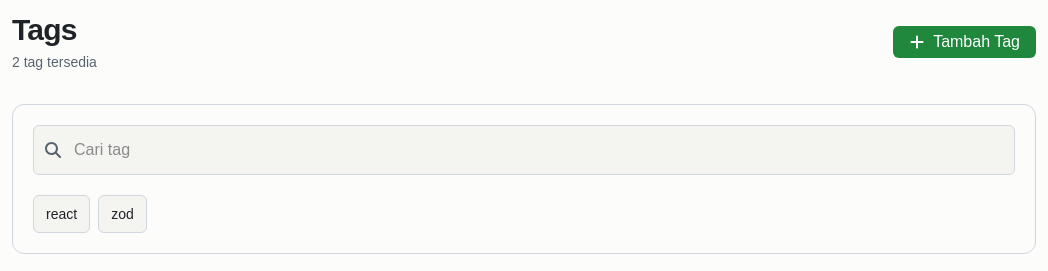
it: TagsManager › sorts tags and filters the compact list
The width and height of the screenshot is (1048, 271).
Expected: the list named "Daftar tag" reads "react zod", [33, 195, 147, 233]
Type "react" into the field labelled "Cari tag". click: (524, 150)
box: [33, 125, 1015, 175]
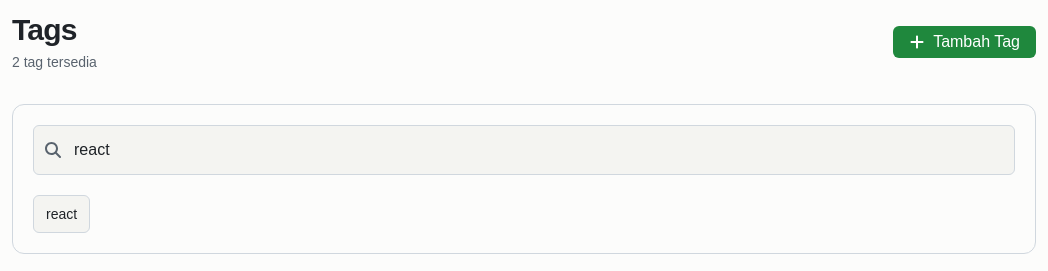
Expected: the list named "Daftar tag" reads "react", [33, 195, 90, 233]
Expected: the button "zod" is gone
